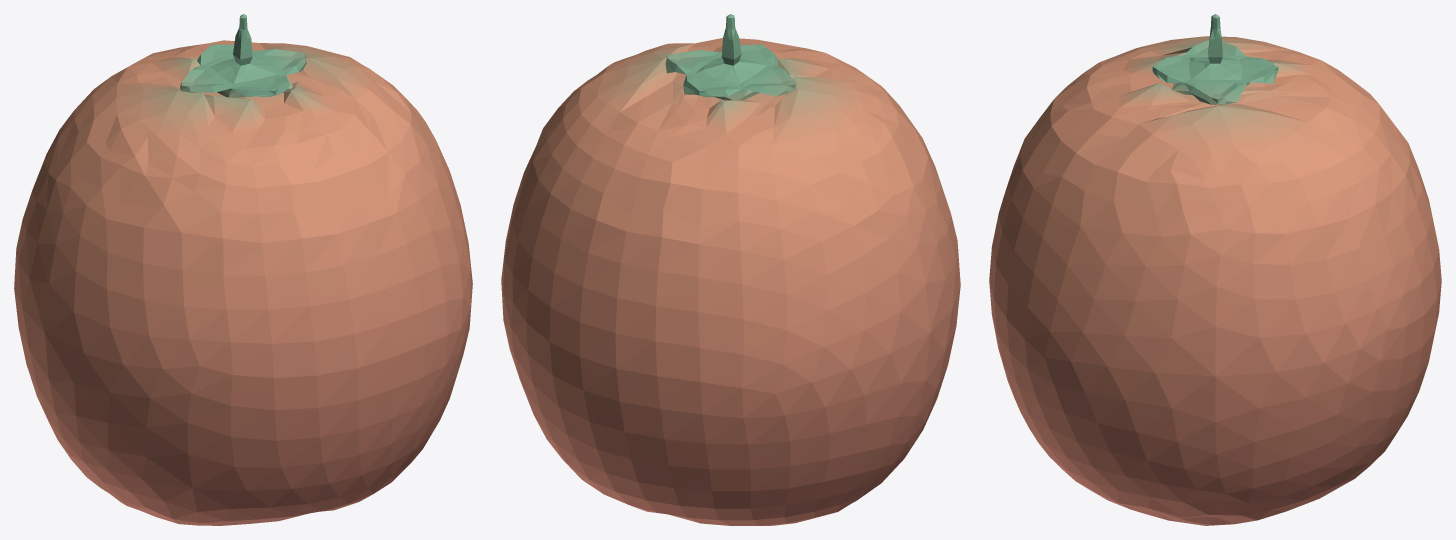
File: orange.glb
The picture shows the model from 3 angles, left to right: view 1: azimuth 30°, elevation 25°; view 2: azimuth 150°, elevation 25°; view 3: azimuth 270°, elevation 25°; orthographic projection.
Size of the model in its own units: 0.4812 by 0.5426 by 0.4801.
